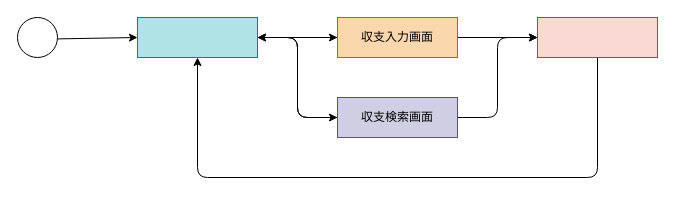
Image size: 675x203. Some labels were removed from this diagram. The shapes that lost their labels are listed below. From the top down, each one's centre as x and y in pixels, then its label:
(197,37): ホーム画面
(597,37): 収支編集画面
